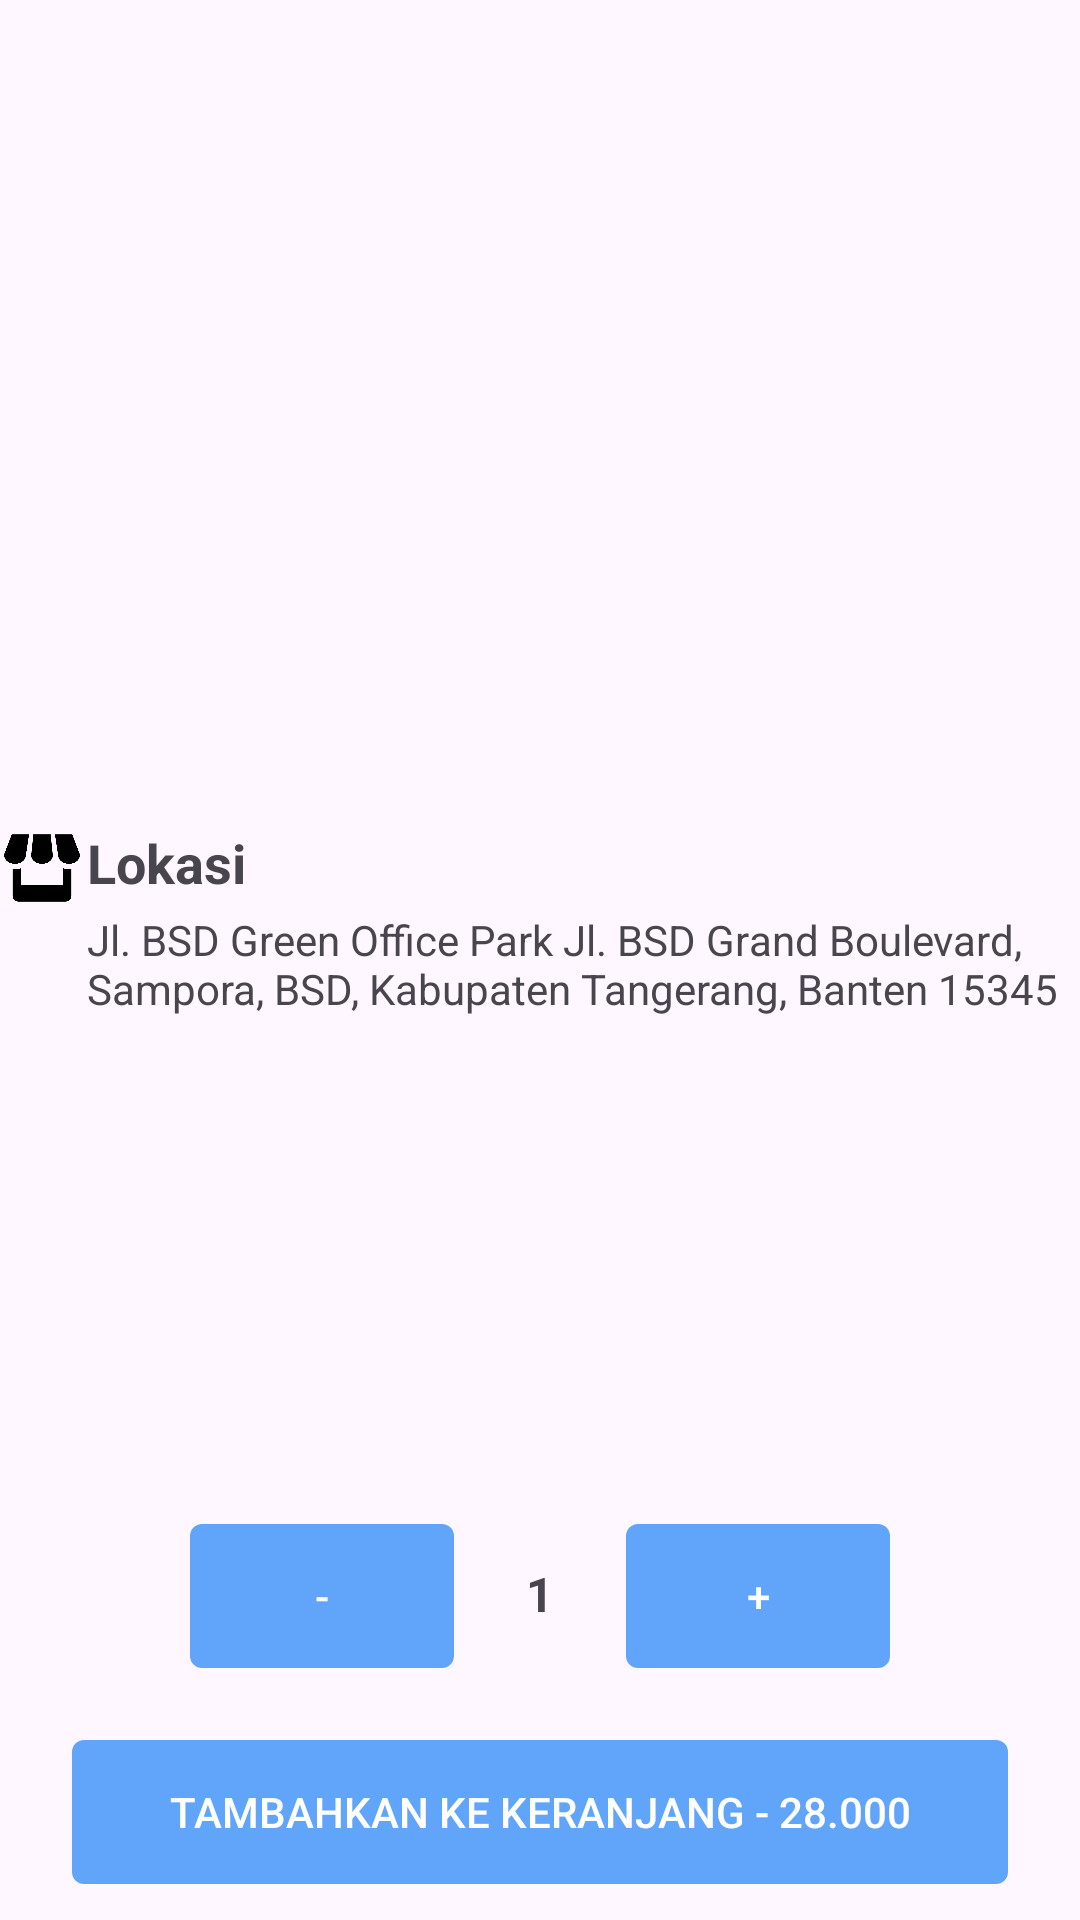

Icons on this 1080 × 1920 Android screen, each with the point to tap as point (x, y):
shop: point (42, 868)
